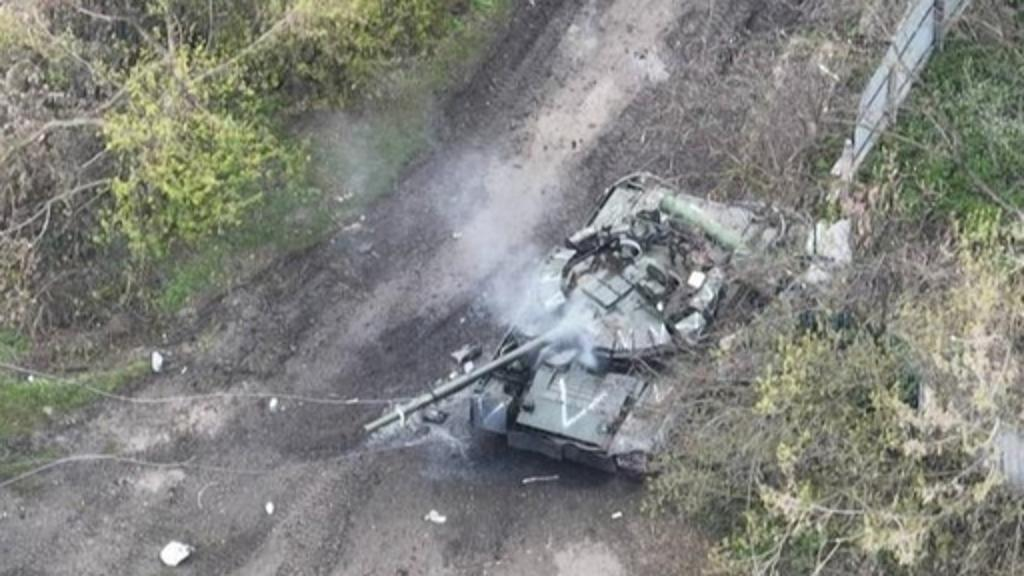TANK: (358, 166, 790, 482)
